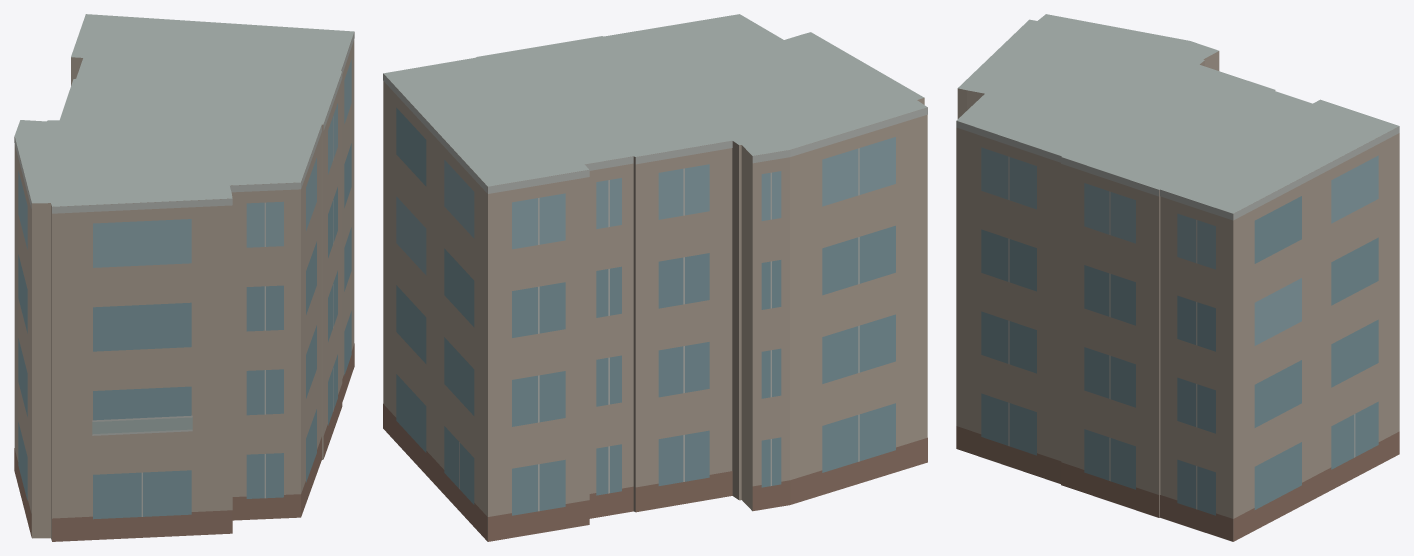
Rendered from survey-upis-32530255.glb.
3 renders of one model, left to right at view 1: azimuth 30°, elevation 25°; view 2: azimuth 150°, elevation 25°; view 3: azimuth 270°, elevation 25°, orthographic. The views are drawn at different scales.
Parts seen in each view (by area): view 1: survey-upis-32530255.tmp; view 2: survey-upis-32530255.tmp; view 3: survey-upis-32530255.tmp.
Boxes of the visible parts, bbox=[...] form: survey-upis-32530255.tmp: bbox=[14, 14, 354, 541]; survey-upis-32530255.tmp: bbox=[383, 14, 927, 541]; survey-upis-32530255.tmp: bbox=[956, 14, 1399, 541].
Size of the model in its own units: 15.42 by 11.8 by 14.46.
